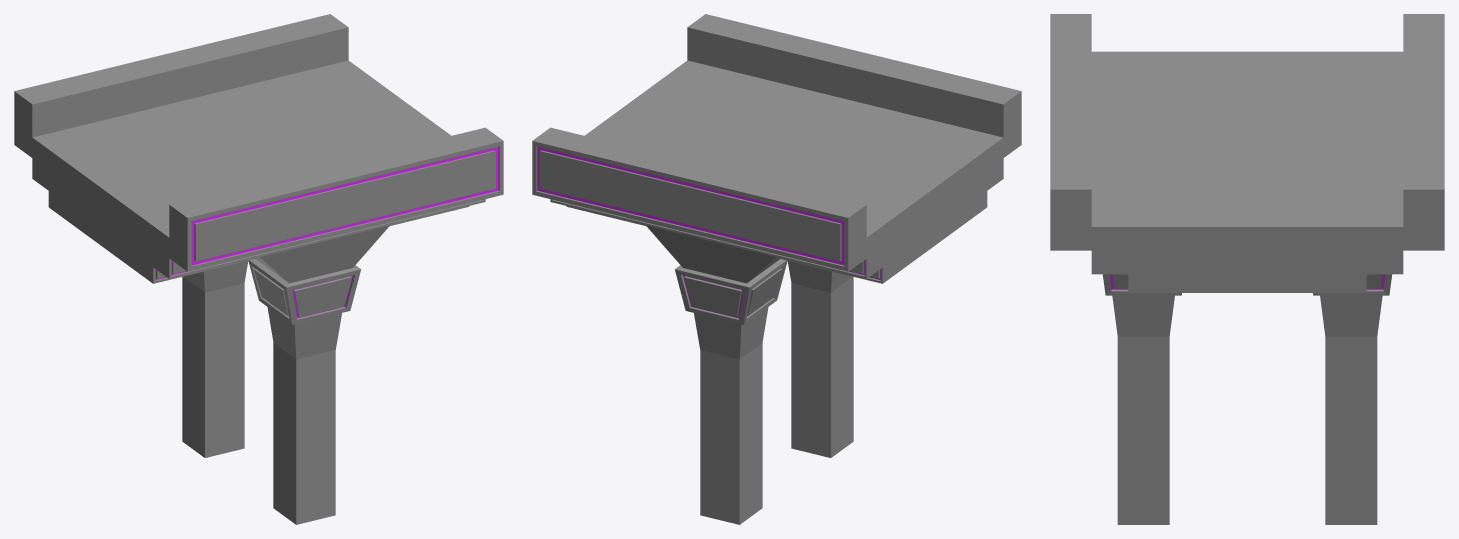
The model's file is SM_Bridge.FBX.
3 views of the same model, side by side, from view 1: azimuth 30°, elevation 25°; view 2: azimuth 150°, elevation 25°; view 3: azimuth 270°, elevation 25° (orthographic). The views are drawn at different scales.
Visible parts, largest first — view 1: Box059, Box058; view 2: Box059, Box058; view 3: Box059, Box058.
Part boxes in pixels (x1=…): Box059: x1=14, y1=14, x2=503, y2=283; Box058: x1=182, y1=225, x2=389, y2=524; Box059: x1=532, y1=14, x2=1021, y2=283; Box058: x1=646, y1=225, x2=853, y2=524; Box059: x1=1050, y1=14, x2=1444, y2=292; Box058: x1=1102, y1=274, x2=1392, y2=524.
Bounding box in the file's own units: 400 × 380 × 438.
